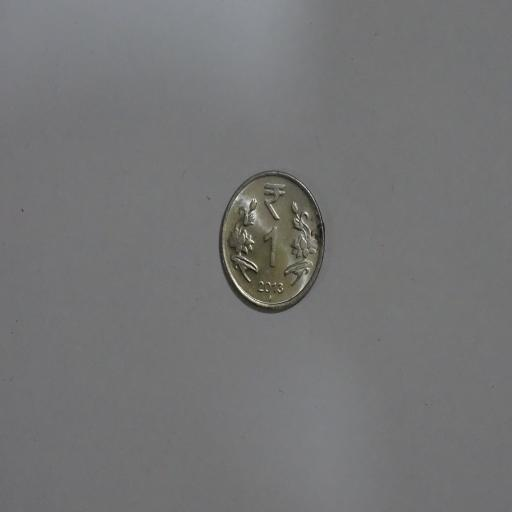rupee1: (218, 169, 327, 312)
